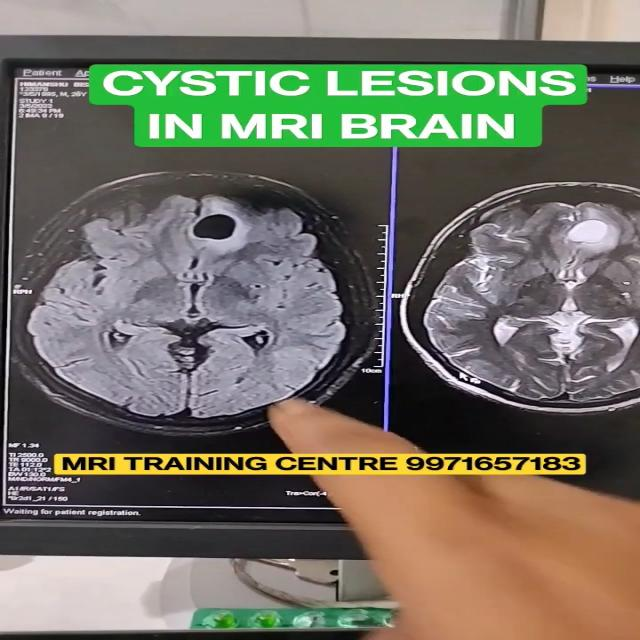tumor: (540, 192, 631, 266), (184, 207, 250, 246)
